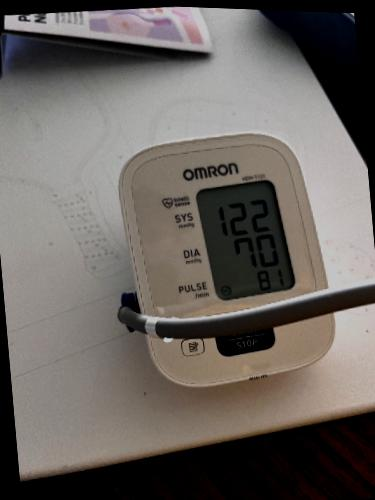bpm: (193, 172, 299, 305)
